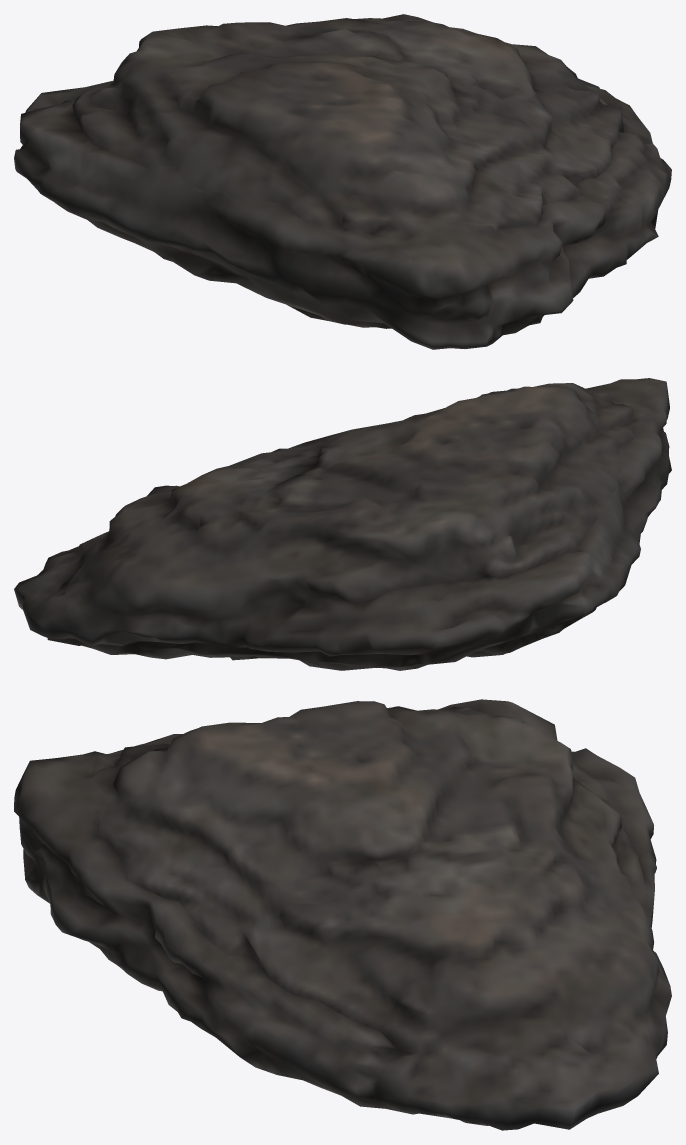
File: Rock_04.fbx
The picture shows the model from 3 angles, top to bottom: view 1: azimuth 30°, elevation 25°; view 2: azimuth 150°, elevation 25°; view 3: azimuth 270°, elevation 25°; orthographic projection. The views are drawn at different scales.
Parts seen in each view (by area): view 1: Rock_04; view 2: Rock_04; view 3: Rock_04.
Part boxes in pixels (box(x1,y1,x2,y2)): Rock_04: box(14, 14, 671, 349); Rock_04: box(14, 378, 671, 670); Rock_04: box(14, 699, 671, 1130).
Size of what is drawn, in the model's own units: 254 by 88.48 by 244.
